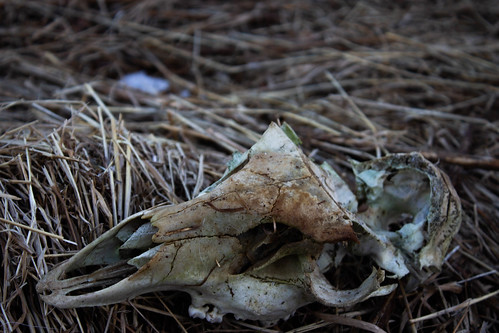bones: (31, 106, 485, 333)
